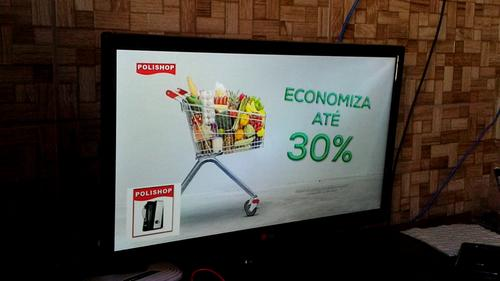Polishop #1: (125, 182, 181, 245)
